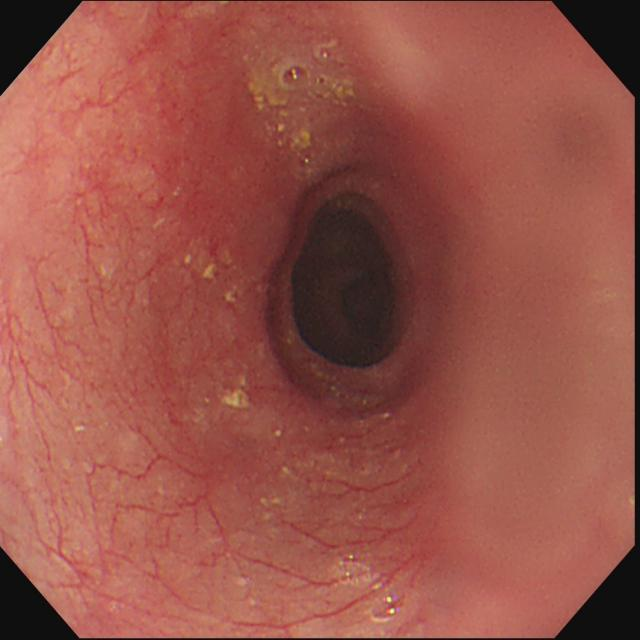E: (285, 187, 418, 375)
J: (253, 90, 310, 159), (184, 253, 241, 305), (222, 389, 253, 411)
T: (335, 553, 403, 624), (283, 58, 331, 90)
